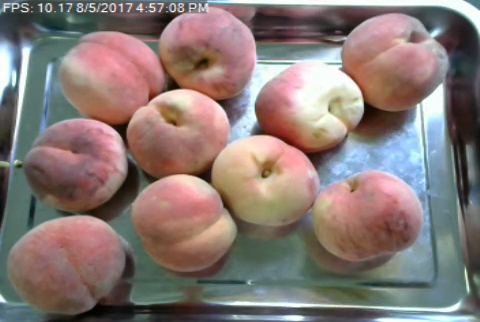Peach: (9, 214, 126, 315), (340, 11, 449, 113), (310, 170, 424, 262), (132, 174, 235, 274), (253, 60, 364, 152), (60, 29, 163, 126), (211, 135, 317, 228), (25, 118, 128, 212), (126, 87, 230, 178), (159, 6, 255, 99)
